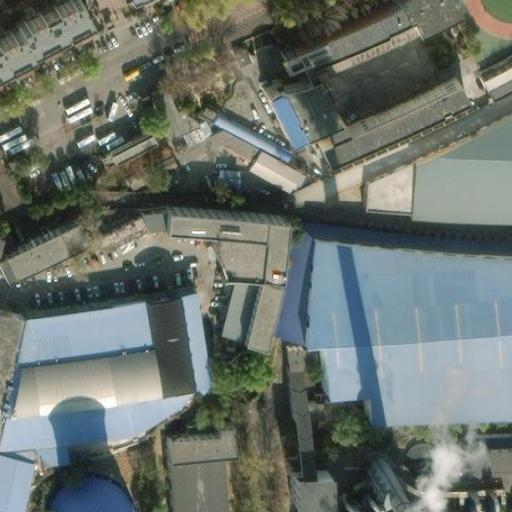building: (301, 226, 512, 419), (354, 95, 512, 208), (0, 292, 144, 364), (331, 59, 446, 133), (138, 286, 203, 397), (258, 75, 336, 146), (0, 207, 79, 267), (41, 466, 129, 512), (203, 106, 282, 154), (436, 444, 512, 490), (161, 458, 223, 512), (238, 139, 295, 187), (157, 211, 258, 238), (207, 236, 257, 286), (159, 429, 232, 462), (218, 285, 255, 344), (463, 35, 512, 79), (200, 117, 250, 157), (106, 128, 160, 165), (389, 0, 449, 29), (284, 470, 326, 511), (255, 216, 279, 287), (252, 286, 276, 344), (131, 210, 158, 233), (466, 494, 499, 512), (505, 383, 512, 410)
